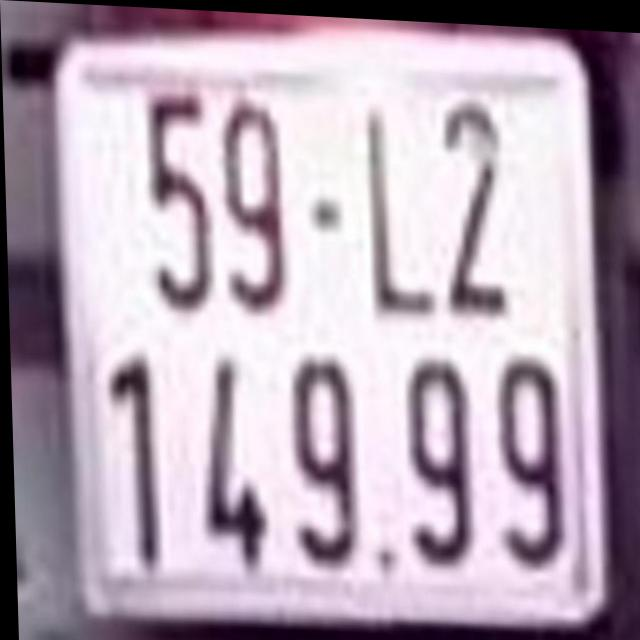1: (105, 359, 168, 563)
2: (442, 98, 509, 306)
4: (198, 351, 264, 566)
5: (140, 94, 216, 306)
9: (395, 346, 468, 558), (493, 349, 565, 560), (219, 101, 287, 312), (286, 349, 354, 557)
L: (349, 102, 437, 308)
